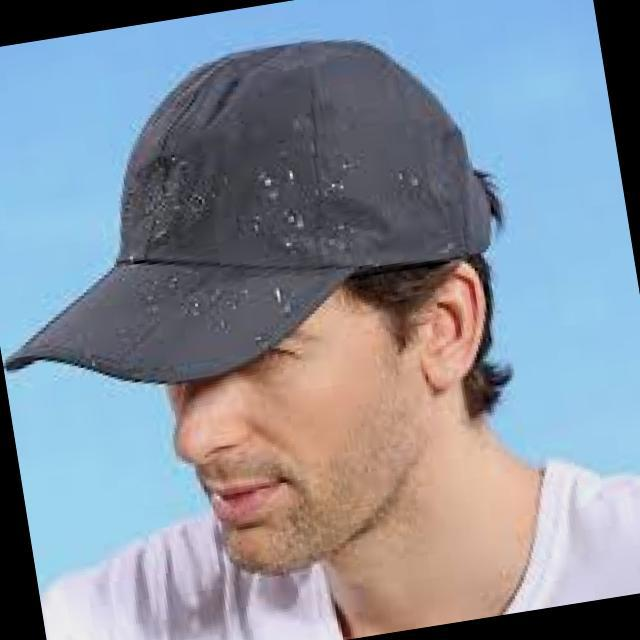cap: (0, 0, 554, 460)
